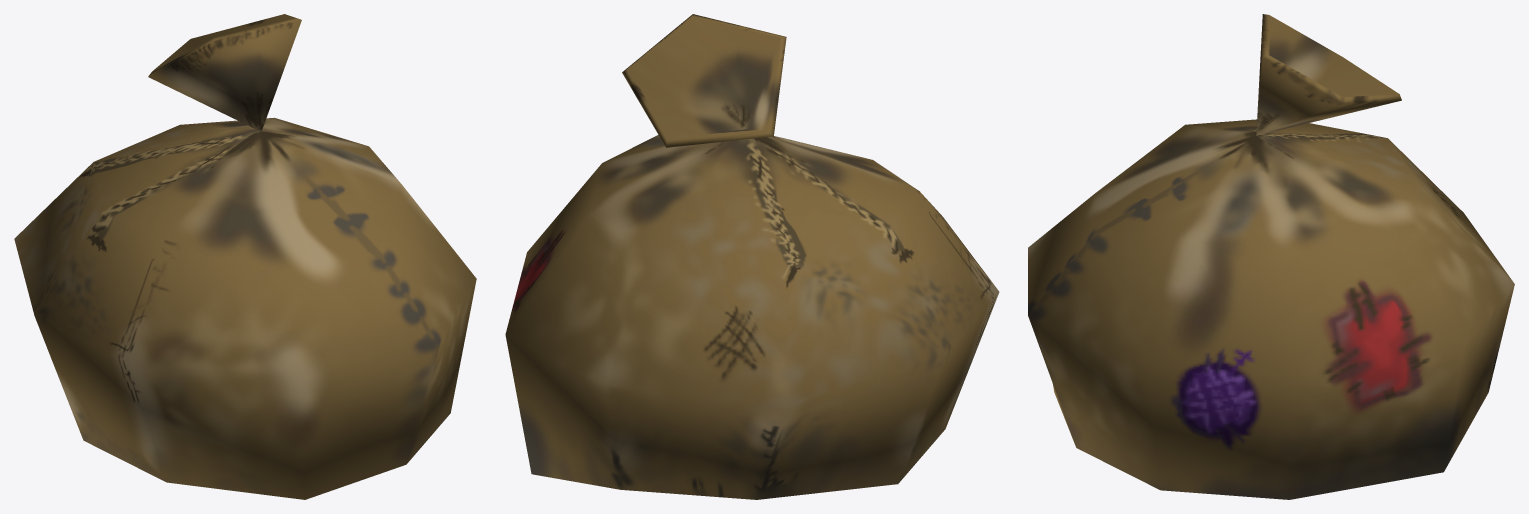
File: E02_Item_Drop.FBX
3 views of the same model, side by side, from view 1: azimuth 30°, elevation 25°; view 2: azimuth 150°, elevation 25°; view 3: azimuth 270°, elevation 25° (orthographic). The views are drawn at different scales.
Parts seen in each view (by area): view 1: E02_Item_Drop; view 2: E02_Item_Drop; view 3: E02_Item_Drop.
Part boxes in pixels (bbox=[...]): E02_Item_Drop: bbox=[14, 14, 476, 499]; E02_Item_Drop: bbox=[505, 14, 999, 499]; E02_Item_Drop: bbox=[1028, 14, 1514, 499].
Size of the model in its own units: 61.41 by 57.03 by 65.33.
